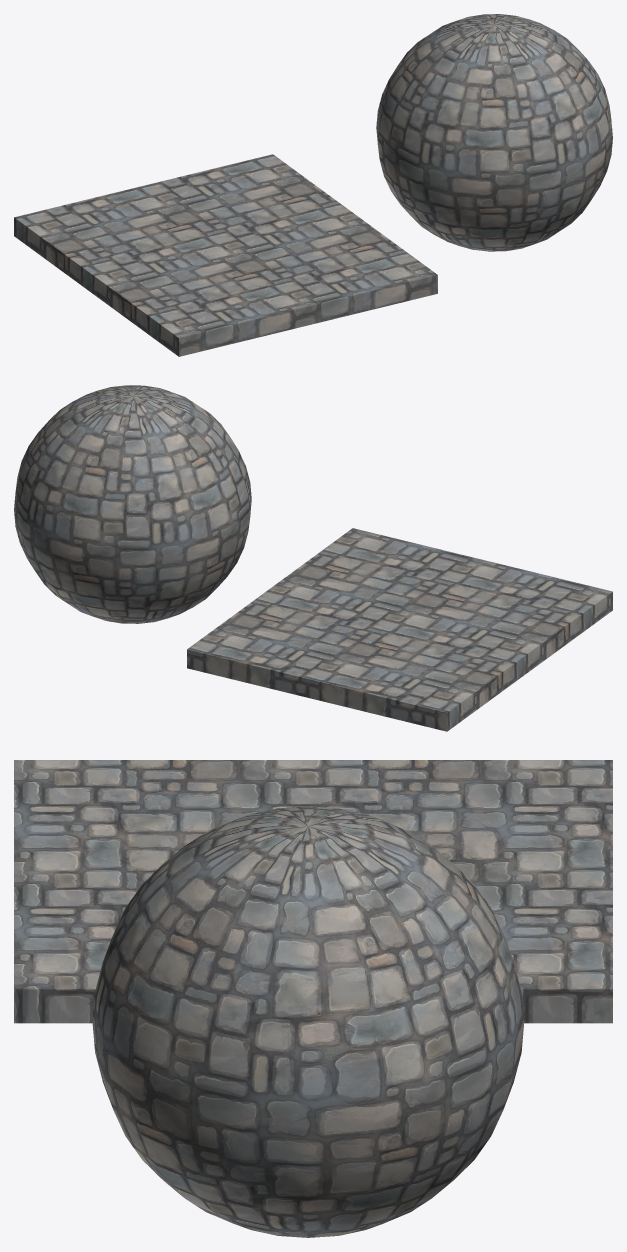
File: tilable_stone_texture.glb
3 views of the same model, one above another, from view 1: azimuth 30°, elevation 25°; view 2: azimuth 150°, elevation 25°; view 3: azimuth 270°, elevation 25° (orthographic). The views are drawn at different scales.
Parts seen in each view (by area): view 1: Object_3; view 2: Object_3; view 3: Object_3.
Boxes of the visible parts, left/top/right/bottom form: Object_3: left=14, top=14, right=612, bottom=356; Object_3: left=14, top=385, right=612, bottom=731; Object_3: left=14, top=760, right=612, bottom=1237.
Bounding box in the file's own units: 1.79 × 0.7363 × 1.02.
1 material, 1 textured.
